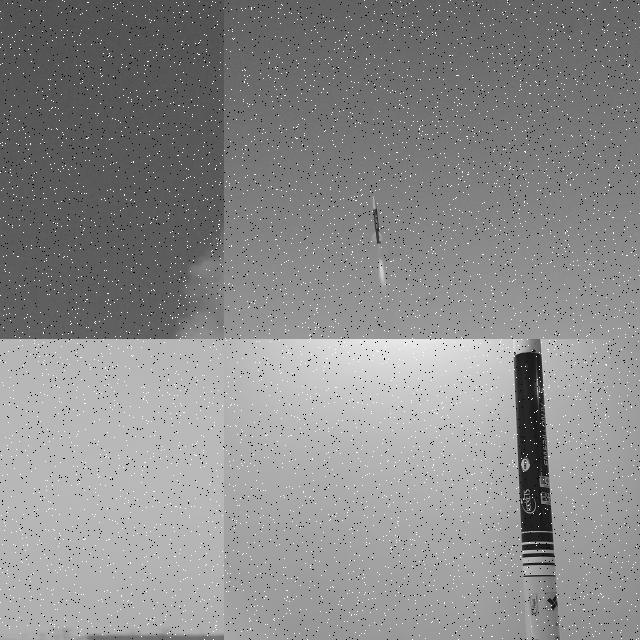Rocket: (513, 339, 560, 640), (371, 196, 383, 246)
